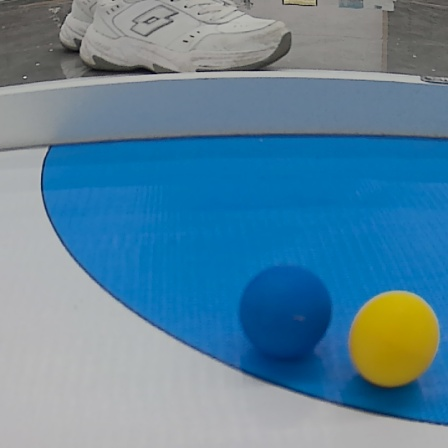blue: (237, 262, 337, 361)
blue_base: (38, 122, 448, 428)
yellow: (347, 286, 442, 398)
